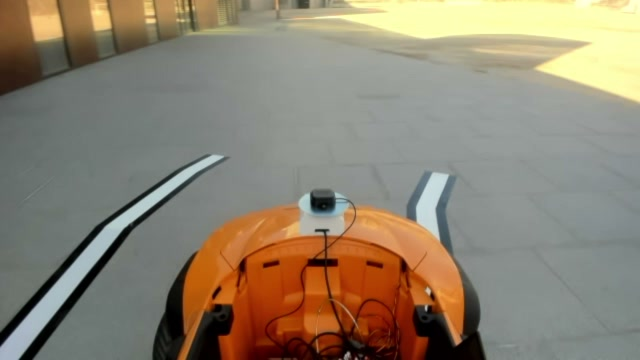Lane: (3, 154, 229, 359), (405, 171, 456, 255)
